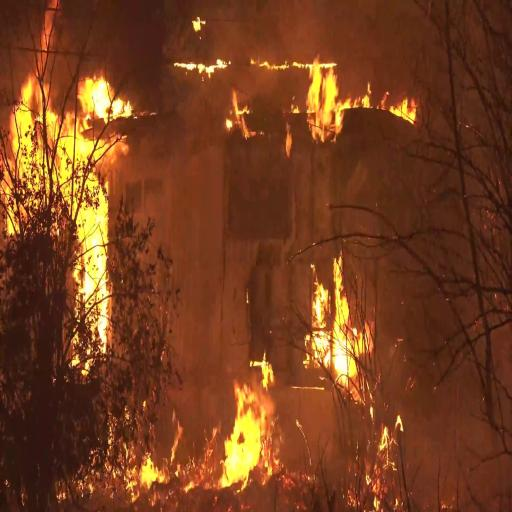fire: (16, 46, 129, 128), (309, 262, 374, 392), (221, 360, 276, 488), (305, 58, 345, 148)
